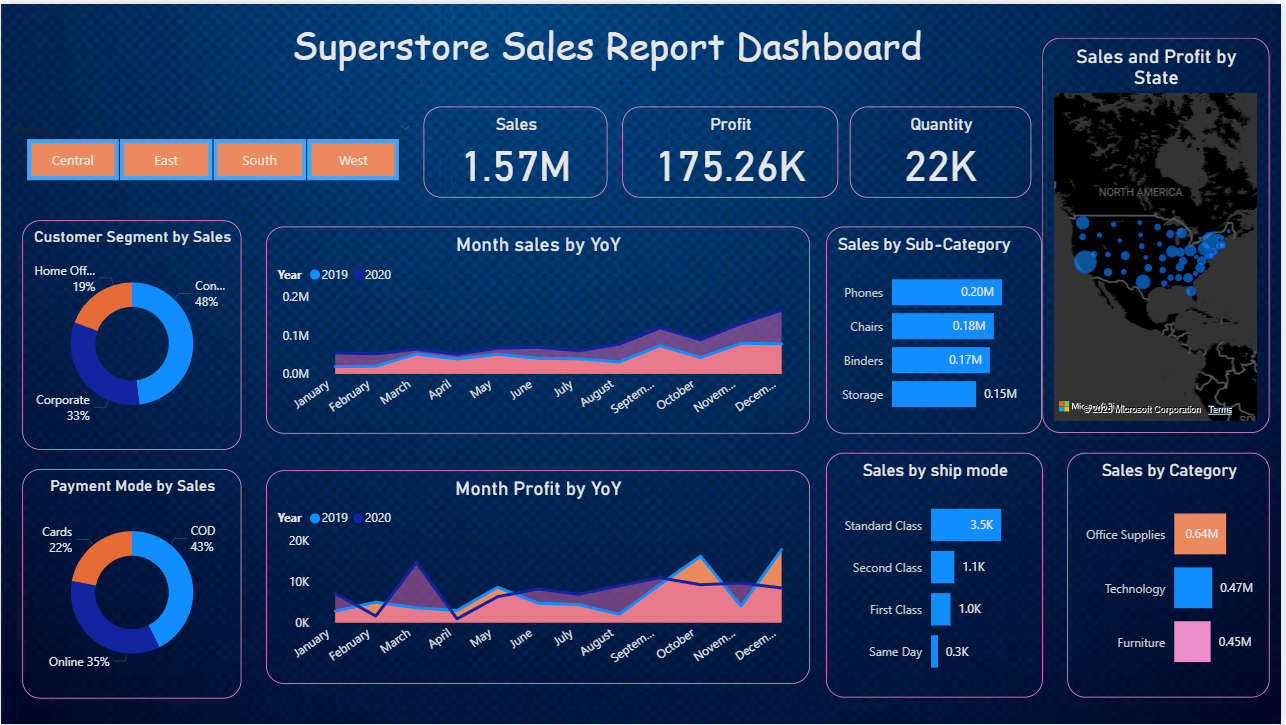

Layout of this report page (visuals, bound fields, positions):
{"tool":"powerbi","page":{"name":"Page 1","canvas":[1280,720],"ordinal":0},"visuals":[{"type":"clusteredBarChart","title":"Sales by Category","fields":{"Category":["SuperStore_Sales_Dataset.Category"],"Y":["SuperStore_Sales_Dataset.Sales"]},"box":[1065.9,448.8,202.4,245.1],"z":0},{"type":"clusteredBarChart","title":"Sales by Sub-Category","fields":{"Category":["SuperStore_Sales_Dataset.Sub-Category"],"Y":["SuperStore_Sales_Dataset.Sales"]},"box":[825.6,222,215.9,207.3],"z":1000},{"type":"clusteredBarChart","title":"Sales by ship mode","fields":{"Category":["SuperStore_Sales_Dataset.Ship Mode"],"Y":["SuperStore_Sales_Dataset.Category"]},"box":[825.6,448.8,217.1,245.1],"z":2000},{"type":"areaChart","title":"Month sales by YoY","fields":{"Y":["SuperStore_Sales_Dataset.Sales"],"Series":["SuperStore_Sales_Dataset.Order Date.Variation.Date Hierarchy.Year"],"Category":["SuperStore_Sales_Dataset.Order Date.Variation.Date Hierarchy.Month"]},"box":[264.6,222,543.9,207.3],"z":3000},{"type":"areaChart","title":"Month Profit by YoY","fields":{"Series":["SuperStore_Sales_Dataset.Order Date.Variation.Date Hierarchy.Year"],"Category":["SuperStore_Sales_Dataset.Order Date.Variation.Date Hierarchy.Month"],"Y":["SuperStore_Sales_Dataset.Profit"]},"box":[264.6,465.9,543.9,213.4],"z":4000},{"type":"map","title":" Sales and Profit by State","fields":{"Category":["SuperStore_Sales_Dataset.State"],"Size":["SuperStore_Sales_Dataset.Sales"]},"box":[1041.5,34.1,226.8,395.1],"z":5000},{"type":"donutChart","title":"Customer Segment by Sales","fields":{"Category":["SuperStore_Sales_Dataset.Segment"],"Y":["SuperStore_Sales_Dataset.Sales"]},"box":[20.7,215.9,219.5,229.3],"z":6000},{"type":"donutChart","title":"Payment Mode by Sales","fields":{"Category":["SuperStore_Sales_Dataset.Payment Mode","SuperStore_Sales_Dataset.Segment"],"Y":["SuperStore_Sales_Dataset.Sales"]},"box":[20.7,464.6,219.5,229.3],"z":7000},{"type":"slicer","fields":{"Values":["SuperStore_Sales_Dataset.Region"]},"box":[0,113.4,422,69.5],"z":7001},{"type":"textbox","box":[107.3,9.8,997.6,84.1],"z":7002},{"type":"card","title":"Sales","fields":{"Values":["SuperStore_Sales_Dataset.Sales"]},"box":[422,102.4,184.1,91.5],"z":7003},{"type":"card","title":"Profit","fields":{"Values":["SuperStore_Sales_Dataset.Profit"]},"box":[620.7,102.4,215.9,91.5],"z":7004},{"type":"card","title":"Quantity","fields":{"Values":["SuperStore_Sales_Dataset.Quantity"]},"box":[848.8,102.4,181.7,91.5],"z":7005}]}

Visuals, with their boxes in screenshot pixels (x1, y1, x2, y2), scaled from the page's 1280x720 canvas onto the 1286x725 screenshot:
"Sales by Category" clusteredBarChart: BBox(1071, 452, 1274, 699)
"Sales by Sub-Category" clusteredBarChart: BBox(829, 224, 1046, 432)
"Sales by ship mode" clusteredBarChart: BBox(829, 452, 1048, 699)
"Month sales by YoY" areaChart: BBox(266, 224, 812, 432)
"Month Profit by YoY" areaChart: BBox(266, 469, 812, 684)
" Sales and Profit by State" map: BBox(1046, 34, 1274, 432)
"Customer Segment by Sales" donutChart: BBox(21, 217, 241, 448)
"Payment Mode by Sales" donutChart: BBox(21, 468, 241, 699)
slicer - SuperStore_Sales_Dataset.Region: BBox(0, 114, 424, 184)
textbox: BBox(108, 10, 1110, 95)
"Sales" card: BBox(424, 103, 609, 195)
"Profit" card: BBox(624, 103, 841, 195)
"Quantity" card: BBox(853, 103, 1035, 195)
